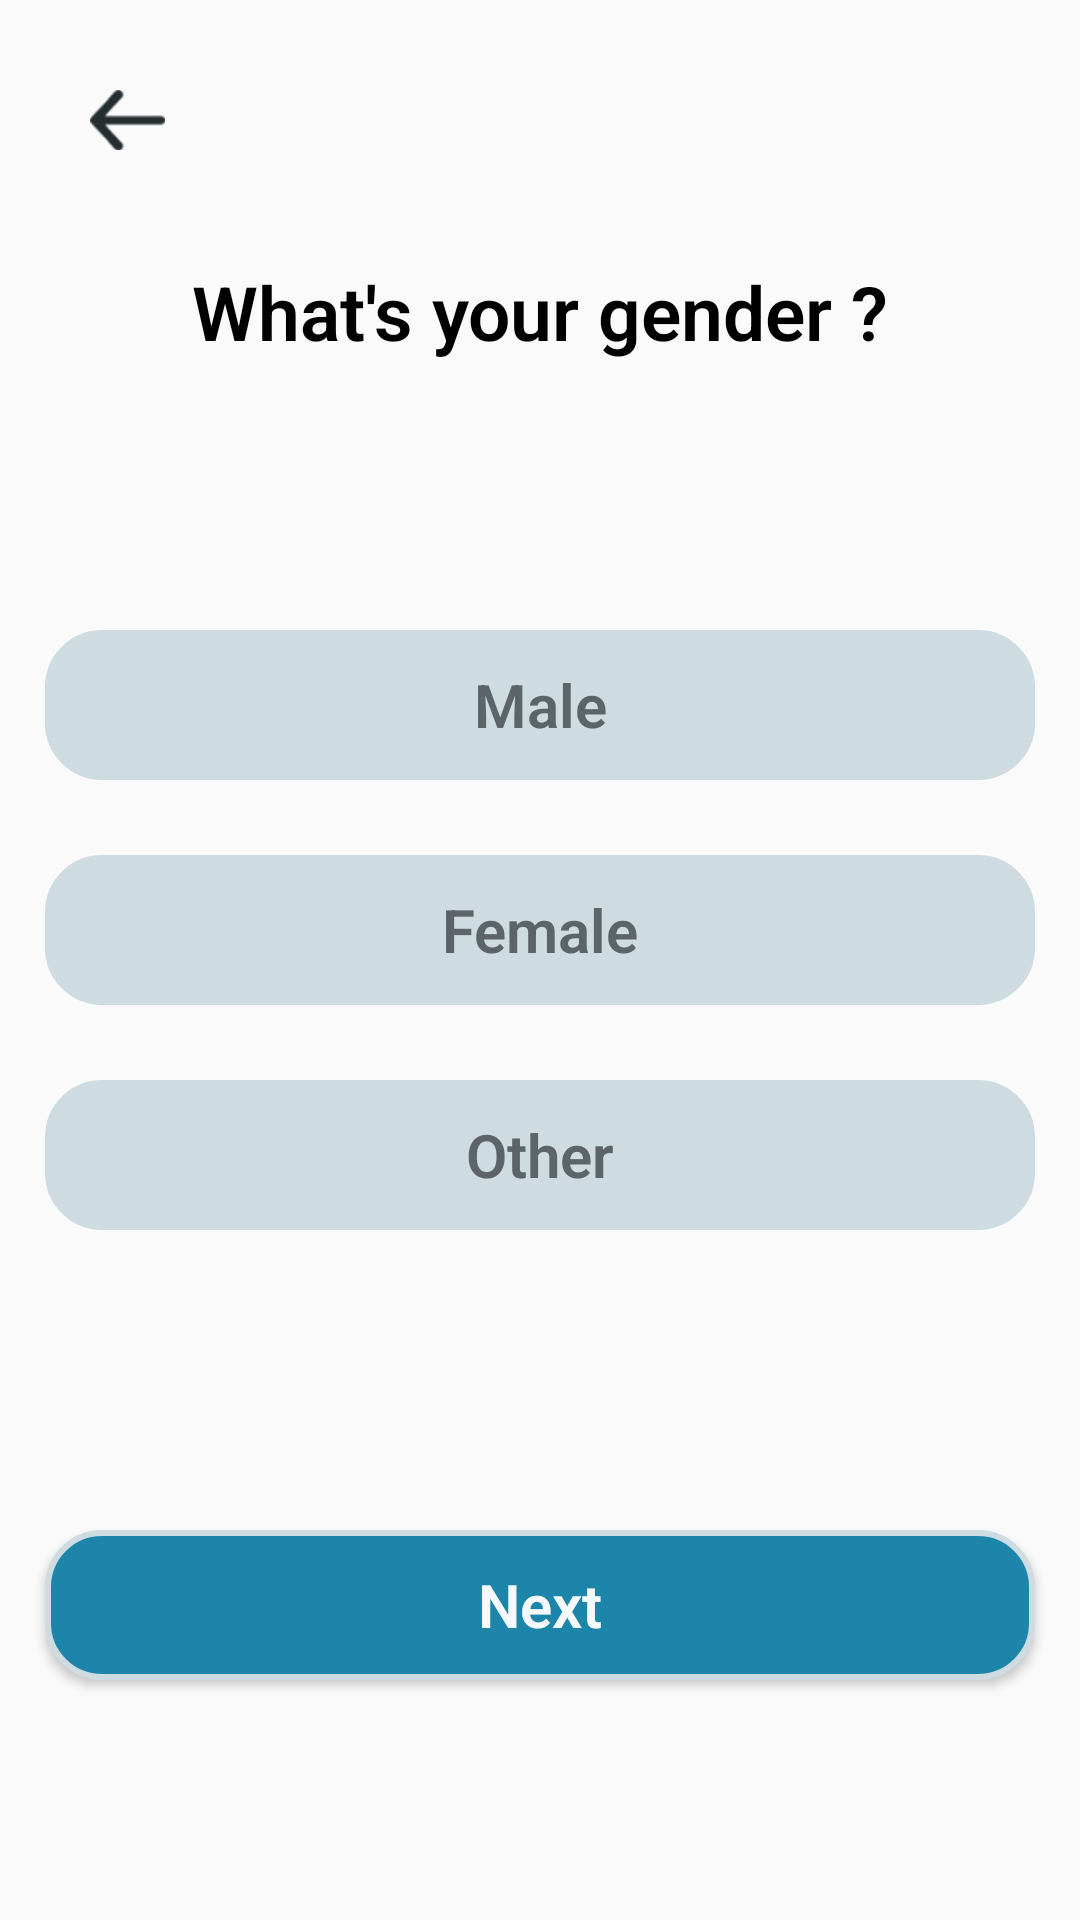

Where icons sit on this 1080 x 1920 app screen, as bbox=[x1, y1, x2, y2]:
arrow: bbox=[90, 90, 165, 150]
